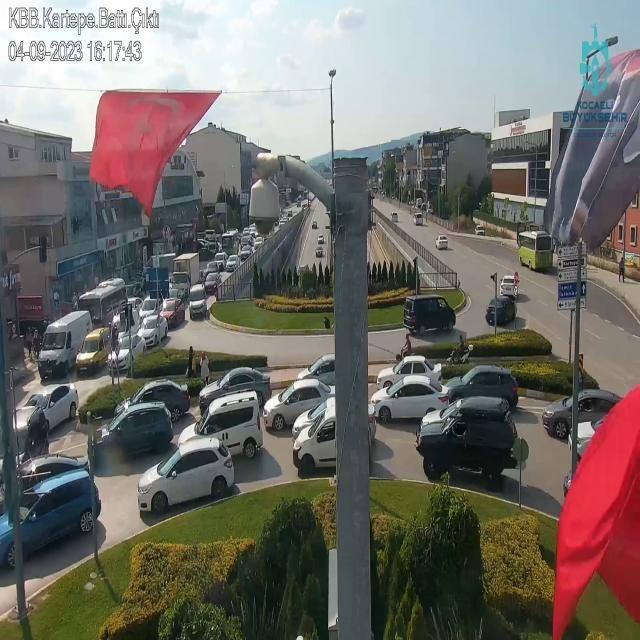Bus: (76, 278, 128, 330), (517, 230, 554, 271), (219, 229, 241, 254)
Car: (0, 470, 101, 570), (416, 409, 522, 481), (137, 437, 236, 513), (294, 396, 374, 474), (178, 389, 264, 457), (0, 451, 90, 513), (96, 401, 173, 458), (369, 373, 450, 423), (541, 389, 620, 440), (262, 377, 334, 431), (197, 367, 270, 416), (440, 365, 520, 409), (114, 378, 190, 424), (15, 382, 78, 437), (0, 406, 50, 475), (375, 354, 443, 390), (568, 413, 612, 458), (105, 332, 146, 374), (420, 397, 471, 427), (294, 353, 336, 382), (136, 314, 169, 348), (486, 296, 516, 326), (160, 297, 187, 328), (138, 293, 163, 326), (188, 284, 208, 317), (499, 275, 518, 299), (167, 286, 187, 306), (204, 272, 222, 293), (202, 261, 221, 280), (126, 297, 144, 315), (212, 252, 228, 271), (238, 243, 253, 261), (226, 254, 240, 272), (435, 235, 449, 250), (240, 235, 253, 248), (252, 236, 264, 248), (474, 225, 486, 235), (413, 213, 423, 225), (315, 246, 324, 257), (250, 227, 259, 237), (278, 220, 287, 228), (317, 234, 324, 244), (391, 212, 398, 222), (243, 228, 251, 236), (286, 210, 293, 219), (311, 221, 318, 228)
Cycle: (446, 346, 474, 364)
Truck: (169, 252, 201, 291)
Van: (36, 310, 95, 380), (402, 294, 456, 336), (75, 326, 112, 376)
